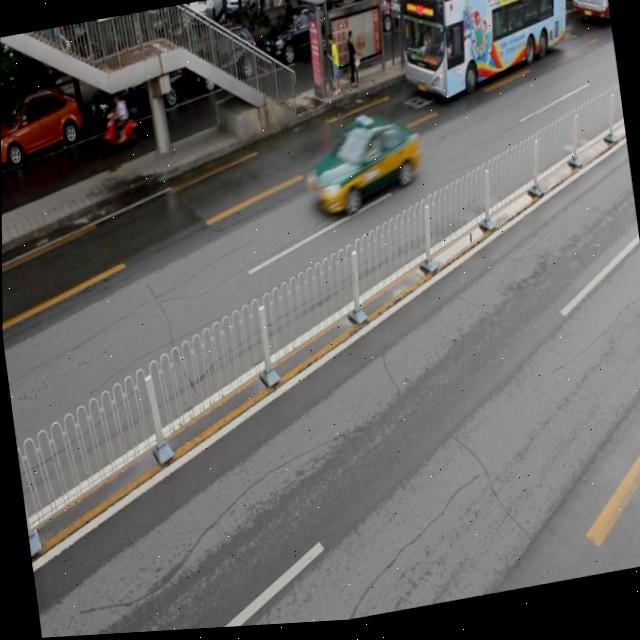car: (301, 107, 426, 224), (88, 53, 187, 131), (1, 86, 87, 171), (259, 4, 339, 71), (192, 25, 259, 95)
van: (387, 0, 579, 106), (564, 0, 609, 33)
